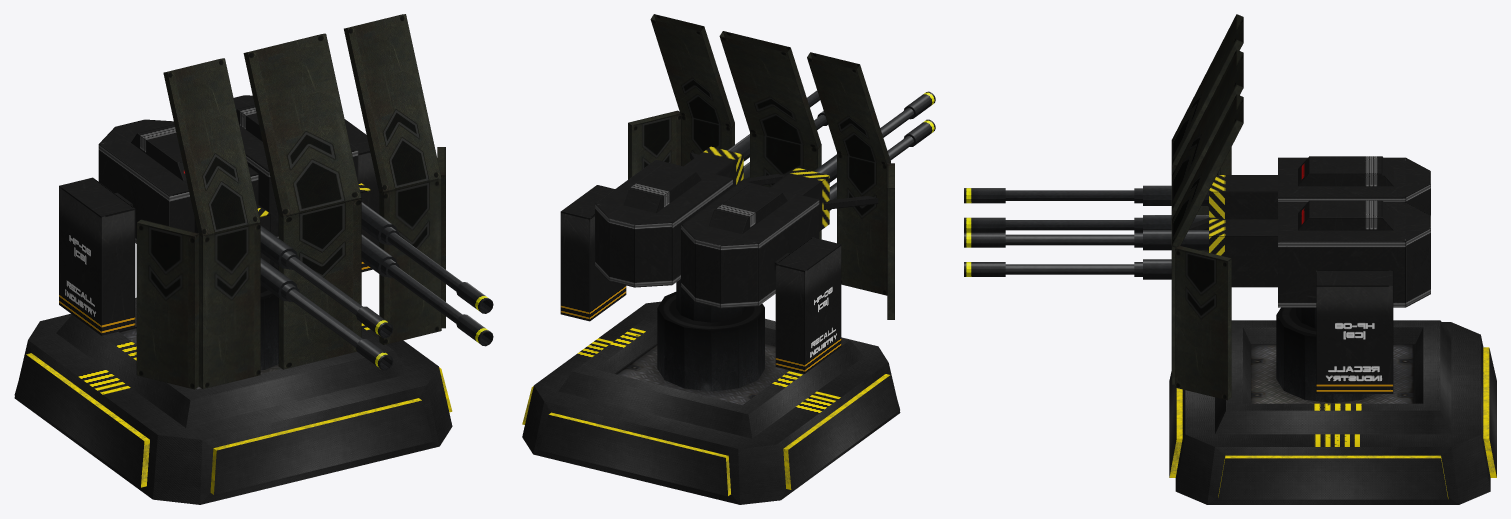
Rendered from MachineGunTowerLv3.fbx.
The picture shows the model from 3 angles, left to right: view 1: azimuth 30°, elevation 25°; view 2: azimuth 150°, elevation 25°; view 3: azimuth 270°, elevation 25°; orthographic projection. The views are drawn at different scales.
Parts seen in each view (by area): view 1: Main_Gun, Base, Gun_R_1, Gun_R_2, Gun_L_2, Gun_L_1, Base_Gun; view 2: Main_Gun, Base, Base_Gun, Gun_R_1, Gun_R_2; view 3: Main_Gun, Base, Base_Gun, Gun_L_1, Gun_R_1, Gun_L_2, Gun_R_2.
Part boxes in pixels (<box>): Main_Gun: <box>59,14,445,389</box>; Base: <box>14,297,452,504</box>; Gun_R_1: <box>260,225,393,338</box>; Gun_R_2: <box>260,258,393,370</box>; Gun_L_2: <box>361,234,493,346</box>; Gun_L_1: <box>361,202,493,313</box>; Base_Gun: <box>260,260,278,370</box>; Main_Gun: <box>560,14,894,373</box>; Base: <box>522,301,900,504</box>; Base_Gun: <box>657,279,764,391</box>; Gun_R_1: <box>813,91,935,182</box>; Gun_R_2: <box>829,119,935,210</box>; Main_Gun: <box>1171,14,1430,400</box>; Base: <box>1169,320,1496,504</box>; Base_Gun: <box>1276,307,1374,402</box>; Gun_L_1: <box>964,230,1208,250</box>; Gun_R_1: <box>964,185,1208,205</box>; Gun_L_2: <box>964,259,1171,279</box>; Gun_R_2: <box>964,215,1208,232</box>.
Bounding box in the file's own units: 24.9 × 31.16 × 40.51.
